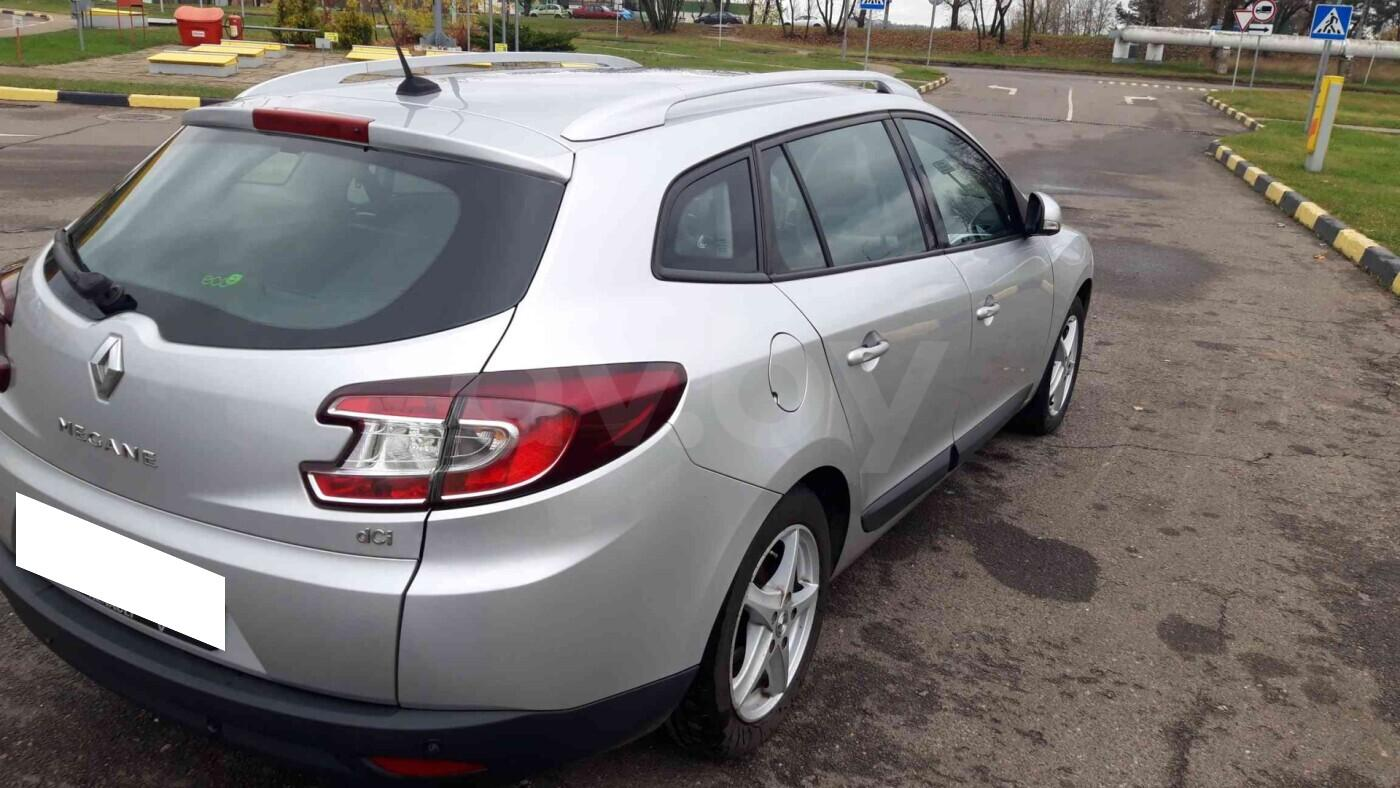Megane_2008-2014: (0, 51, 1095, 767)
